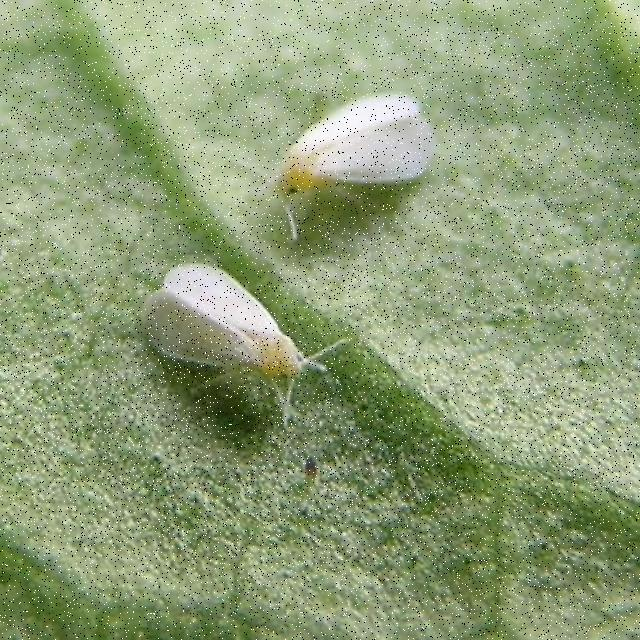Whiteflies: (255, 29, 455, 239), (130, 253, 354, 424)
